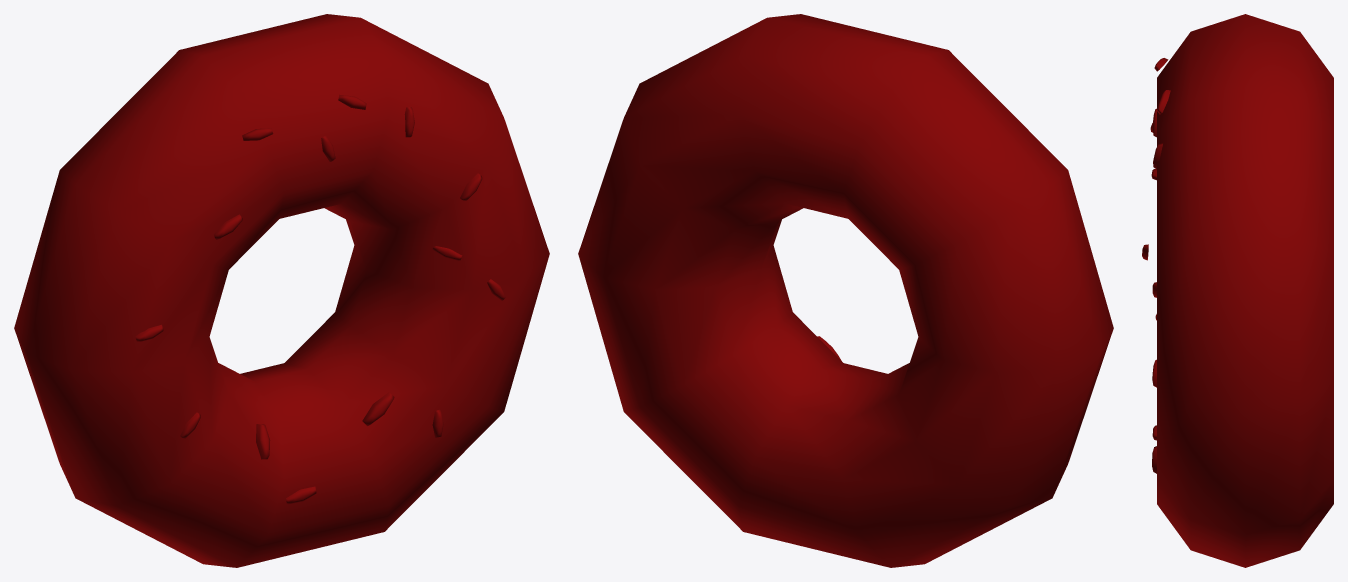
The model's file is Donut_Texture.fbx.
3 renders of one model, left to right at view 1: azimuth 30°, elevation 25°; view 2: azimuth 150°, elevation 25°; view 3: azimuth 270°, elevation 25°, orthographic. The views are drawn at different scales.
Parts seen in each view (by area): view 1: Donut; view 2: Donut; view 3: Donut.
Part boxes in pixels (x1,y1,x2,y2): Donut: (14, 14, 549, 567); Donut: (578, 14, 1113, 567); Donut: (1142, 14, 1333, 567).
Size of the model in its own units: 527 by 501 by 181.
